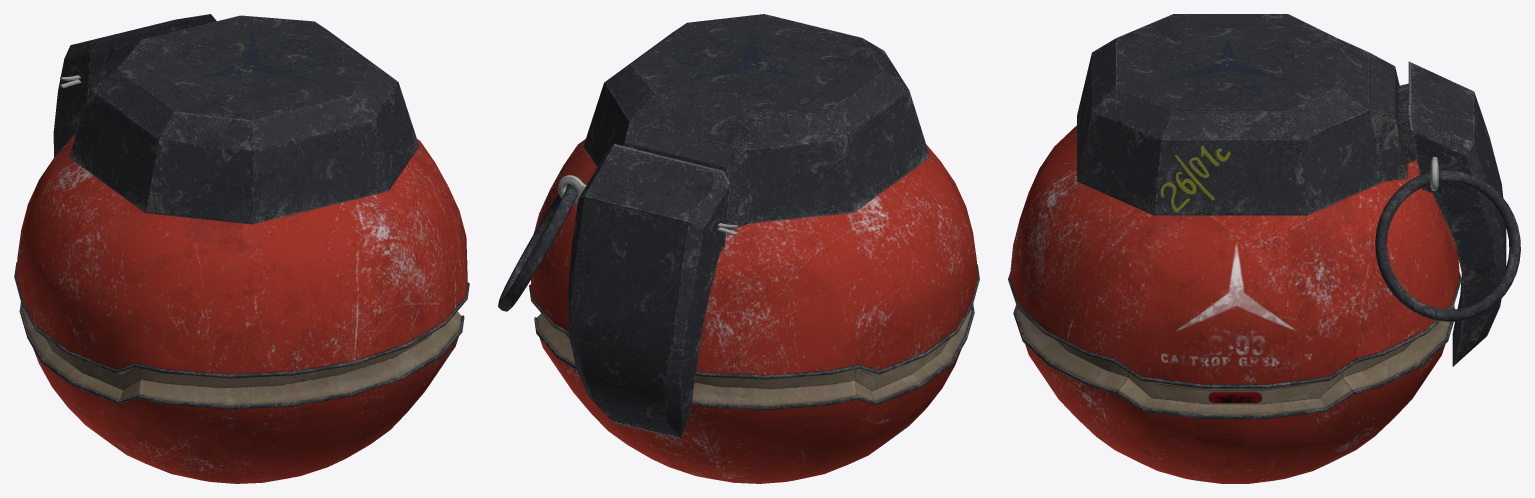
3 renders of one model, left to right at view 1: azimuth 30°, elevation 25°; view 2: azimuth 150°, elevation 25°; view 3: azimuth 270°, elevation 25°, orthographic.
Parts seen in each view (by area): view 1: Grenade_caltrop_1_low, Grenade_caltrop_2_low, Grenade_caltrop_4_low; view 2: Grenade_caltrop_1_low, Grenade_caltrop_2_low, Grenade_caltrop_4_low, Grenade_caltrop_3_low, Grenade_caltrop_8_low; view 3: Grenade_caltrop_1_low, Grenade_caltrop_2_low, Grenade_caltrop_4_low, Grenade_caltrop_8_low, Grenade_caltrop_3_low, Grenade_caltrop_5_low, Grenade_caltrop_6_low.
Boxes of the visible parts, left/top/right/bottom form: Grenade_caltrop_1_low: left=14, top=134, right=469, bottom=483; Grenade_caltrop_2_low: left=69, top=15, right=419, bottom=224; Grenade_caltrop_4_low: left=53, top=14, right=216, bottom=157; Grenade_caltrop_1_low: left=529, top=139, right=979, bottom=483; Grenade_caltrop_2_low: left=583, top=14, right=929, bottom=223; Grenade_caltrop_4_low: left=568, top=144, right=730, bottom=439; Grenade_caltrop_3_low: left=623, top=122, right=748, bottom=230; Grenade_caltrop_8_low: left=498, top=184, right=577, bottom=311; Grenade_caltrop_1_low: left=1008, top=125, right=1461, bottom=483; Grenade_caltrop_2_low: left=1077, top=14, right=1384, bottom=215; Grenade_caltrop_4_low: left=1408, top=61, right=1506, bottom=366; Grenade_caltrop_8_low: left=1375, top=170, right=1520, bottom=321; Grenade_caltrop_3_low: left=1369, top=53, right=1407, bottom=181; Grenade_caltrop_5_low: left=1398, top=83, right=1416, bottom=163; Grenade_caltrop_6_low: left=1209, top=392, right=1261, bottom=402.
Size of the model in its own units: 0.0188 by 0.0183 by 0.0214.
Materials: 1 (1 with a texture image).
